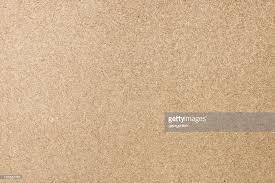Cardboard: (0, 2, 275, 183)
